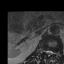CCS_normal: (47, 48, 50, 58)
LFS_stenosis: (53, 49, 55, 56)
LLS_normal: (50, 48, 53, 57)
RFS_stenosis: (43, 47, 45, 54)
RLS_normal: (45, 48, 47, 55)
